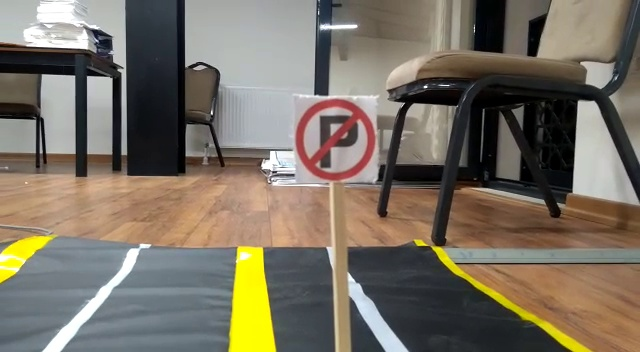park_yapilmaz: (293, 97, 380, 183)
